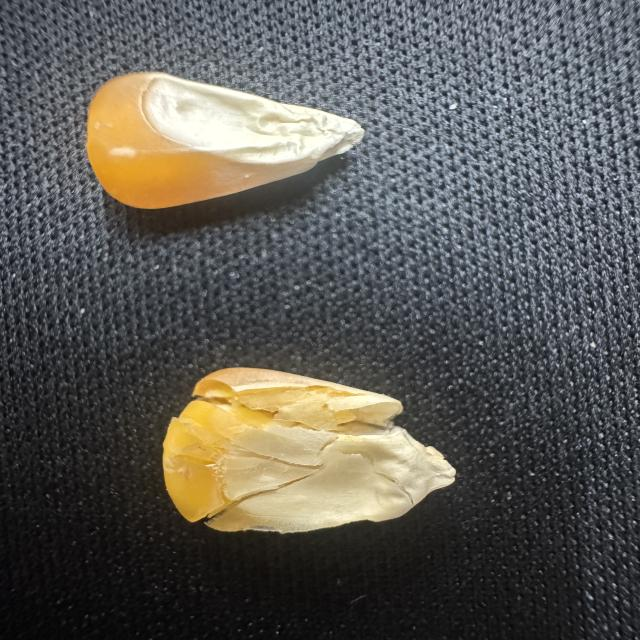Bad-Seed: (157, 351, 465, 550), (79, 69, 380, 225)
